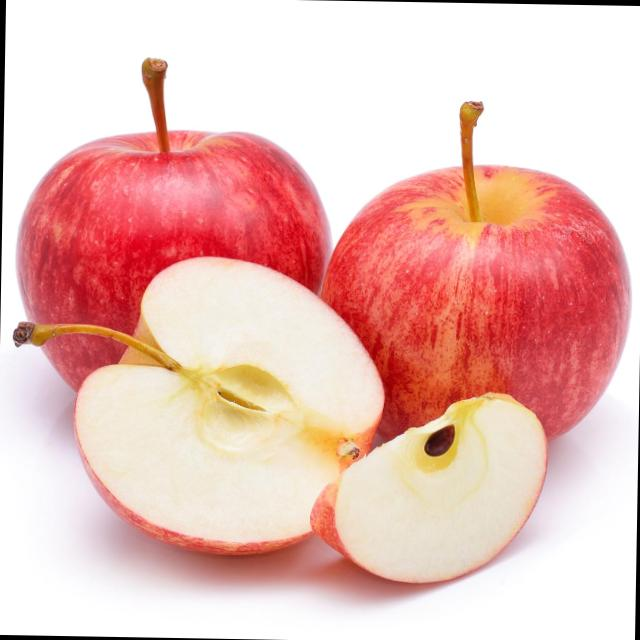apple: (12, 56, 342, 420), (310, 105, 632, 455), (76, 245, 384, 571), (319, 384, 570, 586)
